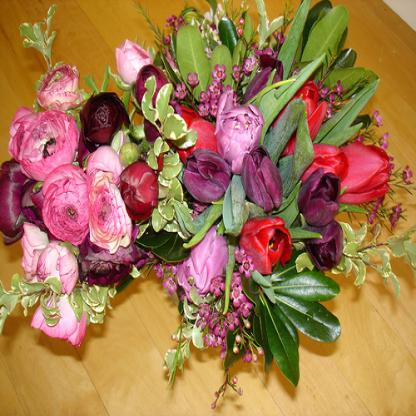TULIP: (12, 18, 404, 378)
